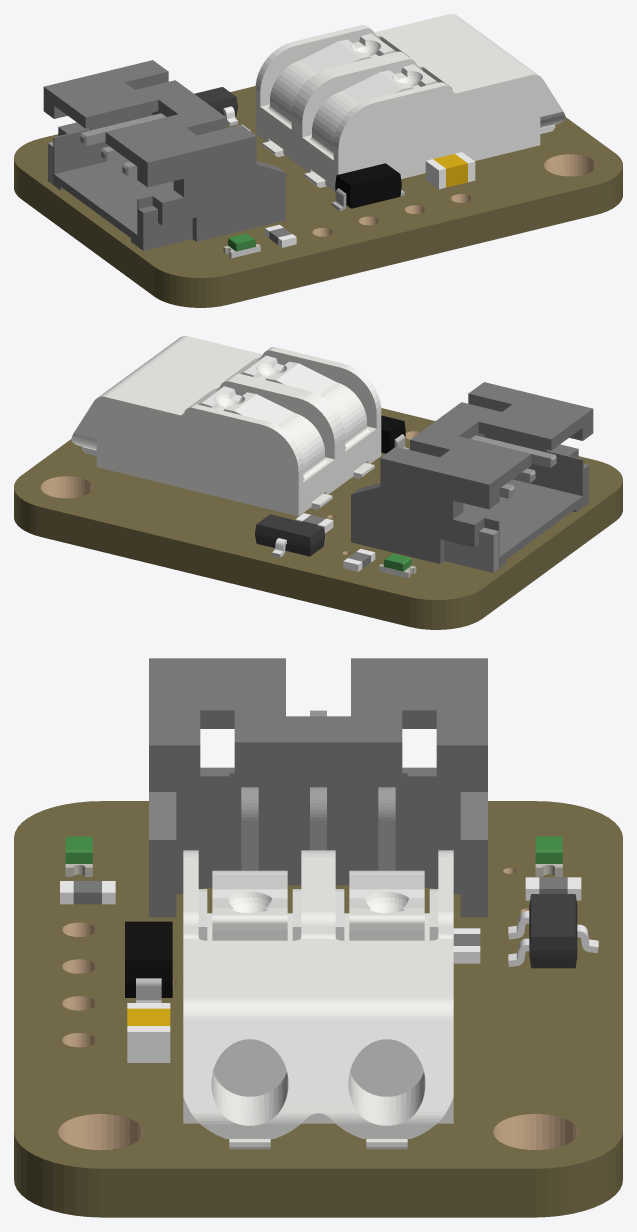
The model's file is mosfet_treiber.glb.
3 views of the same model, one above another, from view 1: azimuth 30°, elevation 25°; view 2: azimuth 150°, elevation 25°; view 3: azimuth 270°, elevation 25° (orthographic). The views are drawn at different scales.
Parts seen in each view (by area): view 1: farbe_1, farbe_0, farbe_7, farbe_12, farbe_2, farbe_4, farbe_10, farbe_13, farbe_11; view 2: farbe_1, farbe_0, farbe_7, farbe_4, farbe_11, farbe_2, farbe_12, farbe_10; view 3: farbe_1, farbe_0, farbe_7, farbe_2, farbe_4, farbe_10, farbe_11, farbe_12, farbe_9, farbe_5, farbe_13.
Boxes of the visible parts, bbox=[...] form: farbe_1: bbox=[14, 86, 622, 307]; farbe_0: bbox=[255, 14, 565, 191]; farbe_7: bbox=[43, 60, 291, 250]; farbe_12: bbox=[335, 163, 401, 208]; farbe_2: bbox=[286, 154, 596, 236]; farbe_4: bbox=[48, 113, 166, 184]; farbe_10: bbox=[242, 124, 475, 247]; farbe_13: bbox=[433, 154, 467, 187]; farbe_11: bbox=[194, 87, 237, 116]; farbe_1: bbox=[14, 408, 622, 629]; farbe_0: bbox=[71, 336, 381, 516]; farbe_7: bbox=[302, 382, 593, 568]; farbe_4: bbox=[444, 435, 556, 572]; farbe_11: bbox=[255, 514, 324, 556]; farbe_2: bbox=[40, 431, 420, 554]; farbe_12: bbox=[381, 415, 405, 453]; farbe_10: bbox=[295, 513, 375, 571]; farbe_1: bbox=[14, 801, 622, 1217]; farbe_0: bbox=[183, 850, 453, 1149]; farbe_7: bbox=[73, 658, 567, 945]; farbe_2: bbox=[58, 868, 578, 1149]; farbe_4: bbox=[241, 710, 395, 870]; farbe_10: bbox=[60, 877, 581, 1062]; farbe_11: bbox=[529, 894, 577, 968]; farbe_12: bbox=[125, 921, 172, 997]; farbe_9: bbox=[65, 836, 562, 863]; farbe_5: bbox=[508, 911, 598, 966]; farbe_13: bbox=[127, 1008, 170, 1025].
Bounding box in the file's own units: 25.4 × 6.37 × 17.78.
